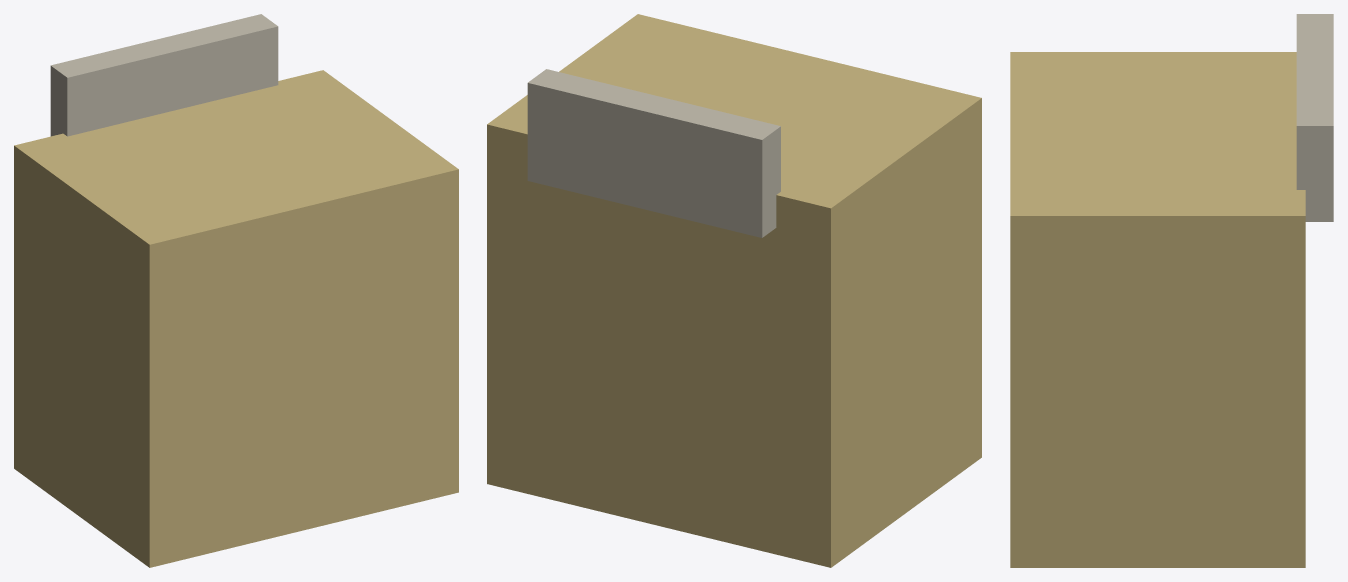
The model's file is iz2_item_canteen.glb.
The picture shows the model from 3 angles, left to right: view 1: azimuth 30°, elevation 25°; view 2: azimuth 150°, elevation 25°; view 3: azimuth 270°, elevation 25°; orthographic projection. The views are drawn at different scales.
Parts seen in each view (by area): view 1: body; view 2: body; view 3: body.
Part boxes in pixels (bbox=[...]): body: bbox=[14, 14, 458, 567]; body: bbox=[487, 14, 981, 567]; body: bbox=[1010, 14, 1333, 567].
Bounding box in the file's own units: 0.2154 × 0.2542 × 0.1789.
